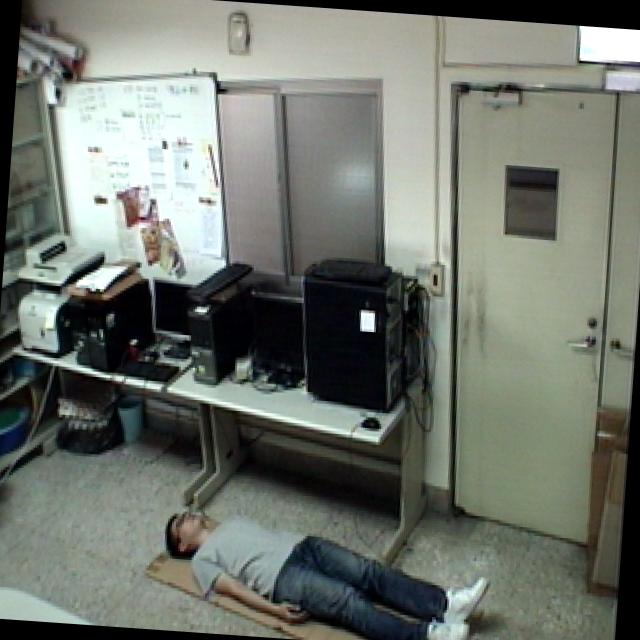lie: (153, 497, 496, 640)
